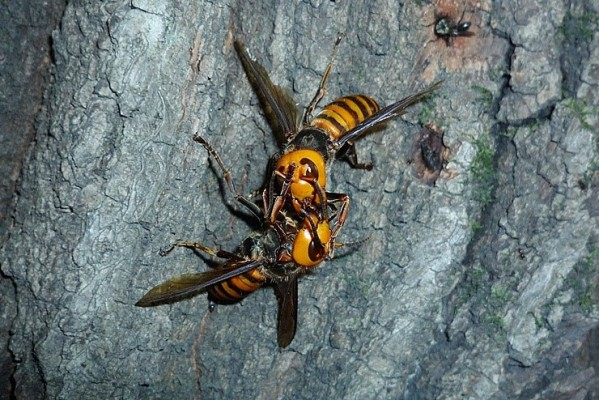asian_giant_hornet: (132, 203, 337, 347), (265, 64, 448, 213)
